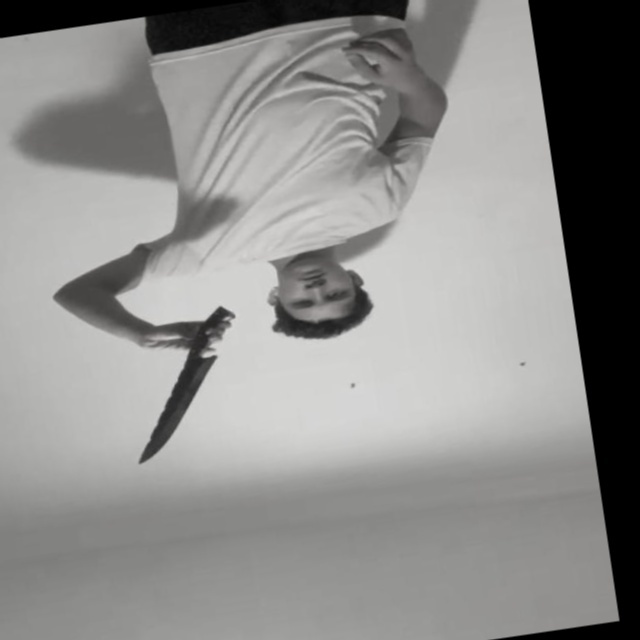Sharp-Object: (123, 352, 234, 464)
